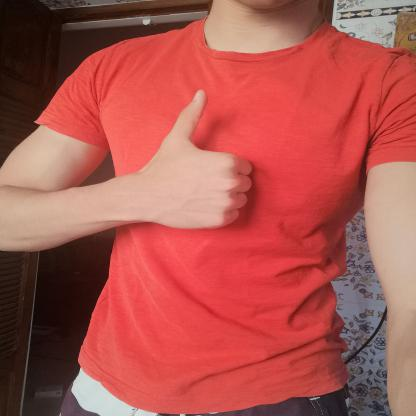ALIF: (126, 80, 263, 241)
